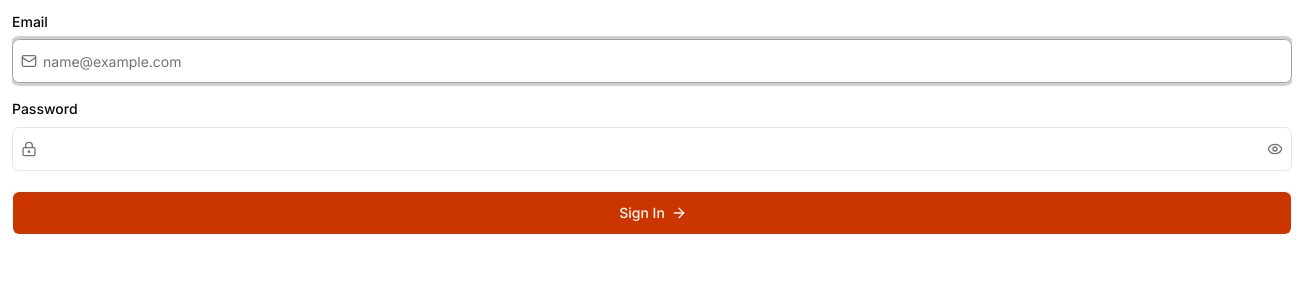
LoginForm › clears only the field the user corrects
Click the button "Sign In" at [652, 212], box [12,190,1292,234]
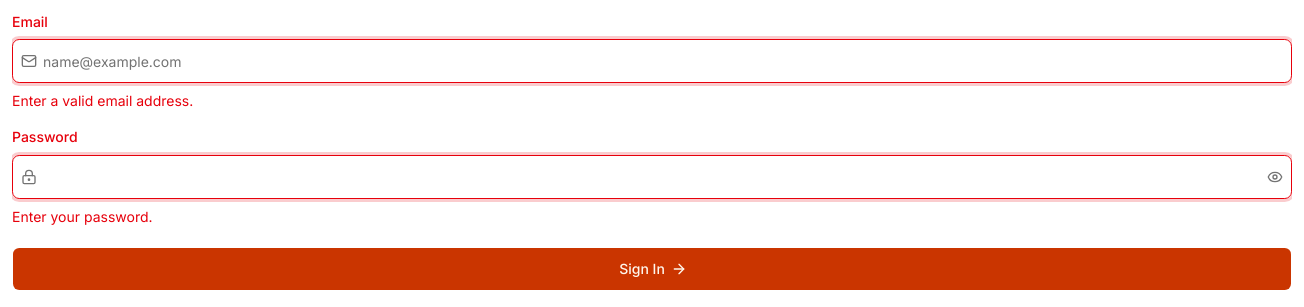
Type "staff@example.com" into the field labelled "Email" at [664, 61], box [37,45,1291,77]
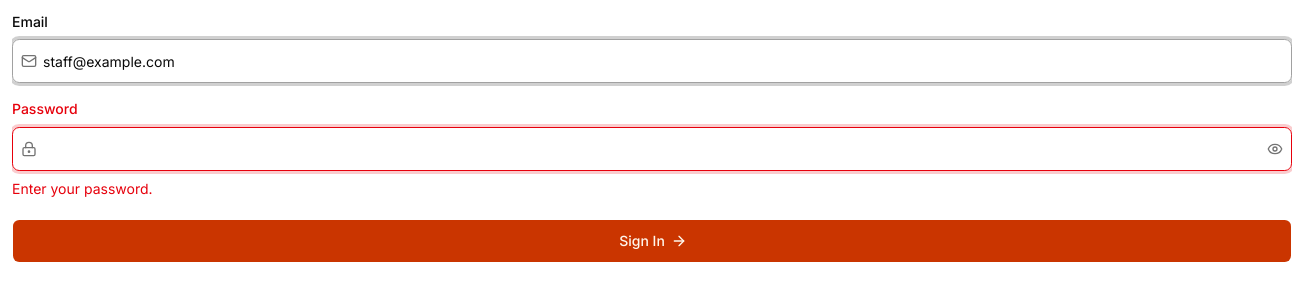
Check: the text "Enter your password." is shown, box [12,180,153,196]
Check: the text "valid email" is gone
